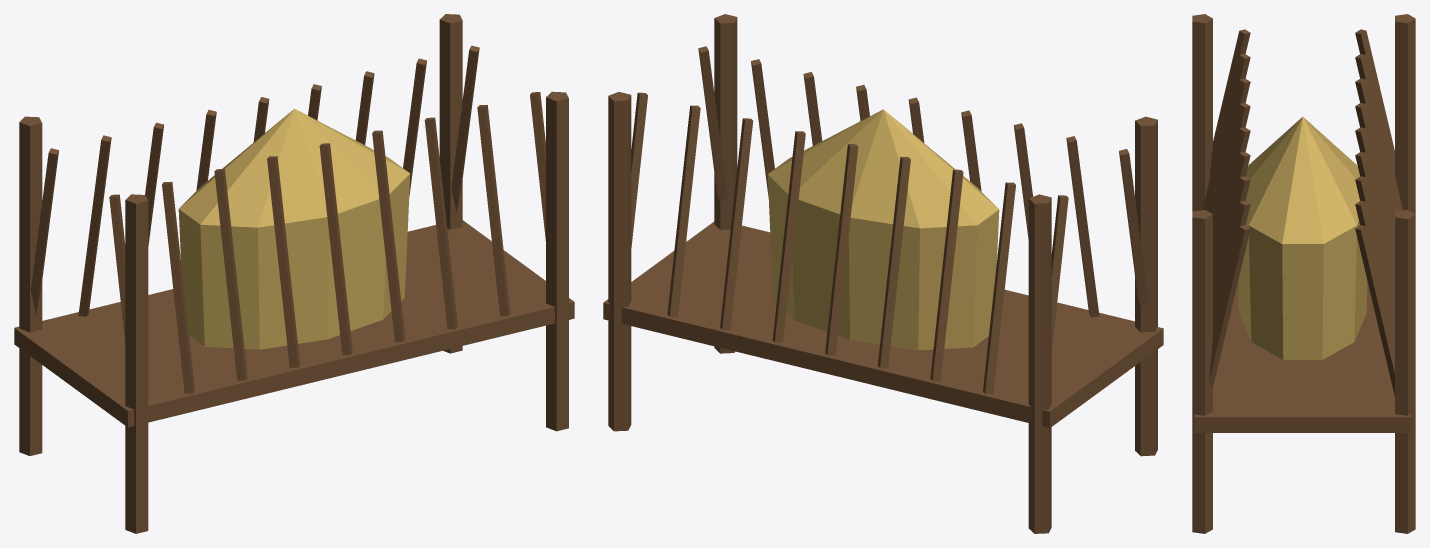
Rendered from Farm_Feeder.obj.
The picture shows the model from 3 angles, left to right: view 1: azimuth 30°, elevation 25°; view 2: azimuth 150°, elevation 25°; view 3: azimuth 270°, elevation 25°; orthographic projection. The views are drawn at different scales.
Parts seen in each view (by area): view 1: Farm_Feeder; view 2: Farm_Feeder; view 3: Farm_Feeder.
Boxes of the visible parts, x1,y1,x2,y2 form: Farm_Feeder: (14, 14, 574, 533); Farm_Feeder: (603, 14, 1163, 533); Farm_Feeder: (1192, 14, 1415, 533).
Size of the model in its own units: 1.7 by 1.2 by 0.7724.
